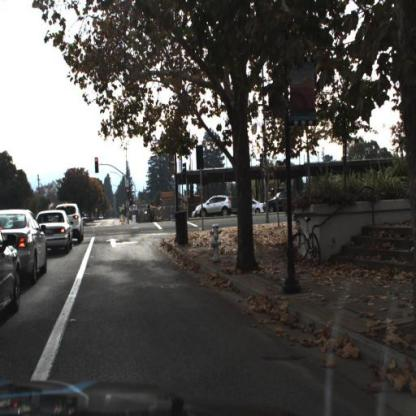car: (1, 208, 48, 285), (39, 206, 71, 255), (55, 200, 85, 246), (262, 186, 302, 219), (61, 204, 85, 245), (269, 191, 304, 218), (204, 194, 240, 217)
trafficLight-Red: (94, 157, 99, 173), (128, 187, 131, 200)
